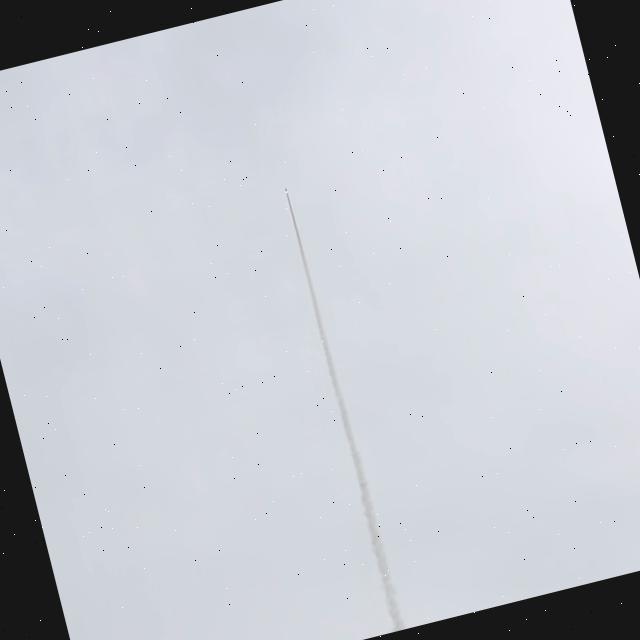smoke_trail_with_rocket: (285, 189, 404, 632)
